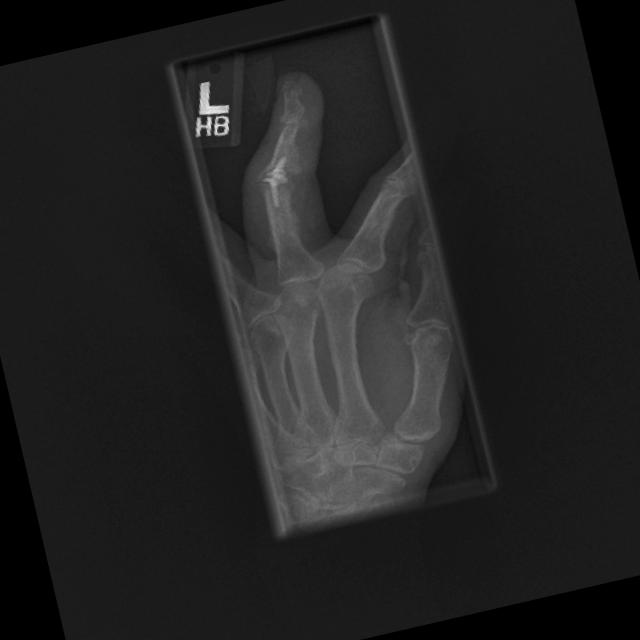fingers positive: (251, 144, 306, 197), (270, 97, 313, 131)
